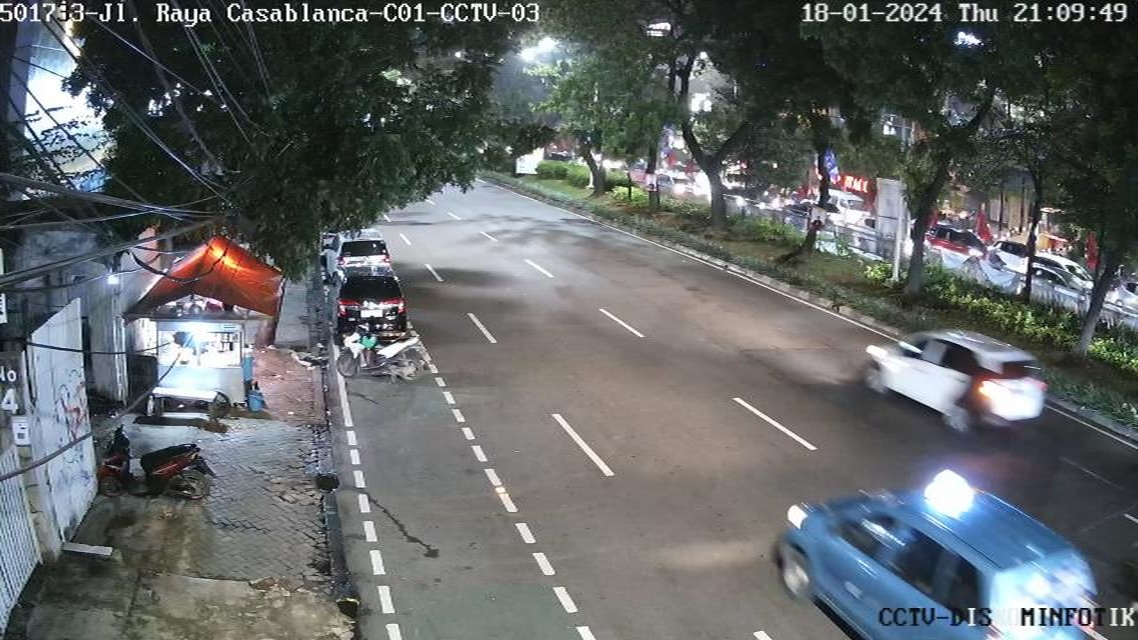Gerobak: (139, 307, 265, 422), (124, 234, 286, 319)
